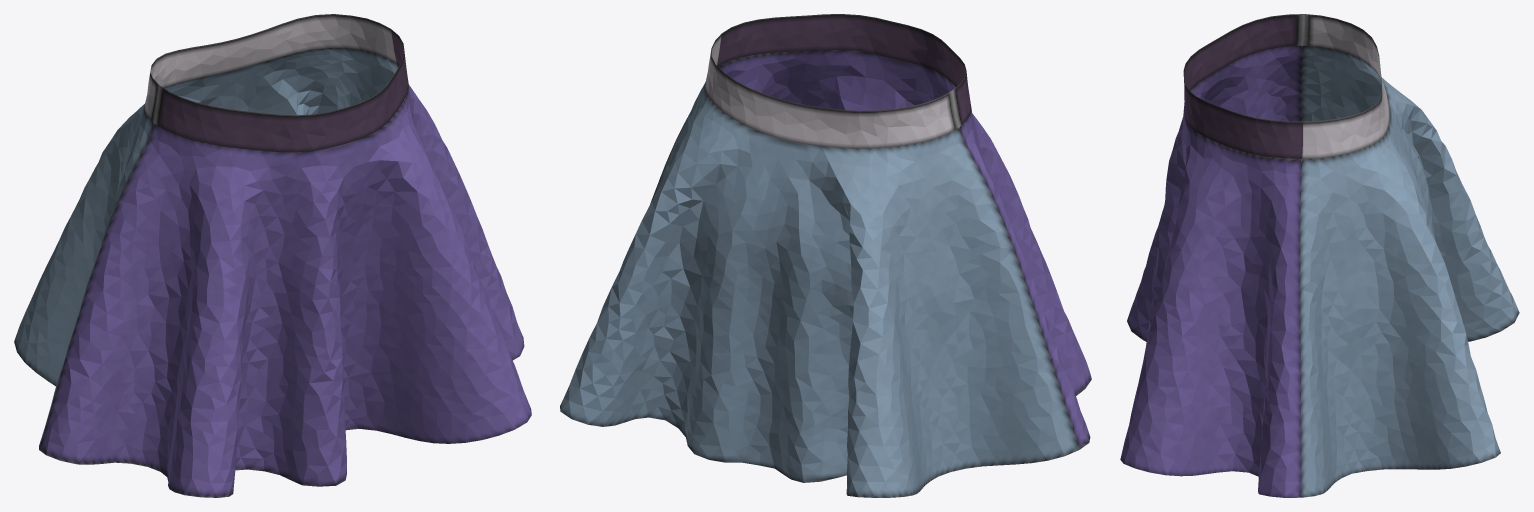
File: skirt_sim.obj
3 renders of one model, left to right at view 1: azimuth 30°, elevation 25°; view 2: azimuth 150°, elevation 25°; view 3: azimuth 270°, elevation 25°, orthographic. The views are drawn at different scales.
Bounding box in the file's own units: 64.02 × 46.16 × 48.11.
1 material, 1 textured.
